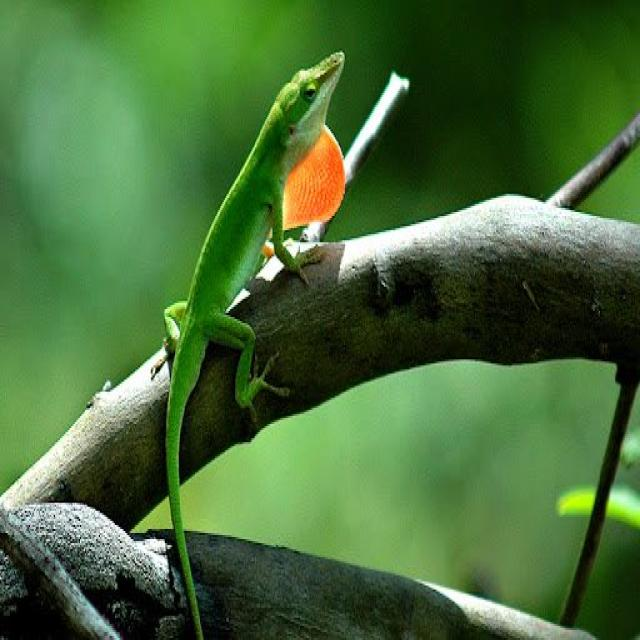Lizard: (165, 41, 351, 632)
